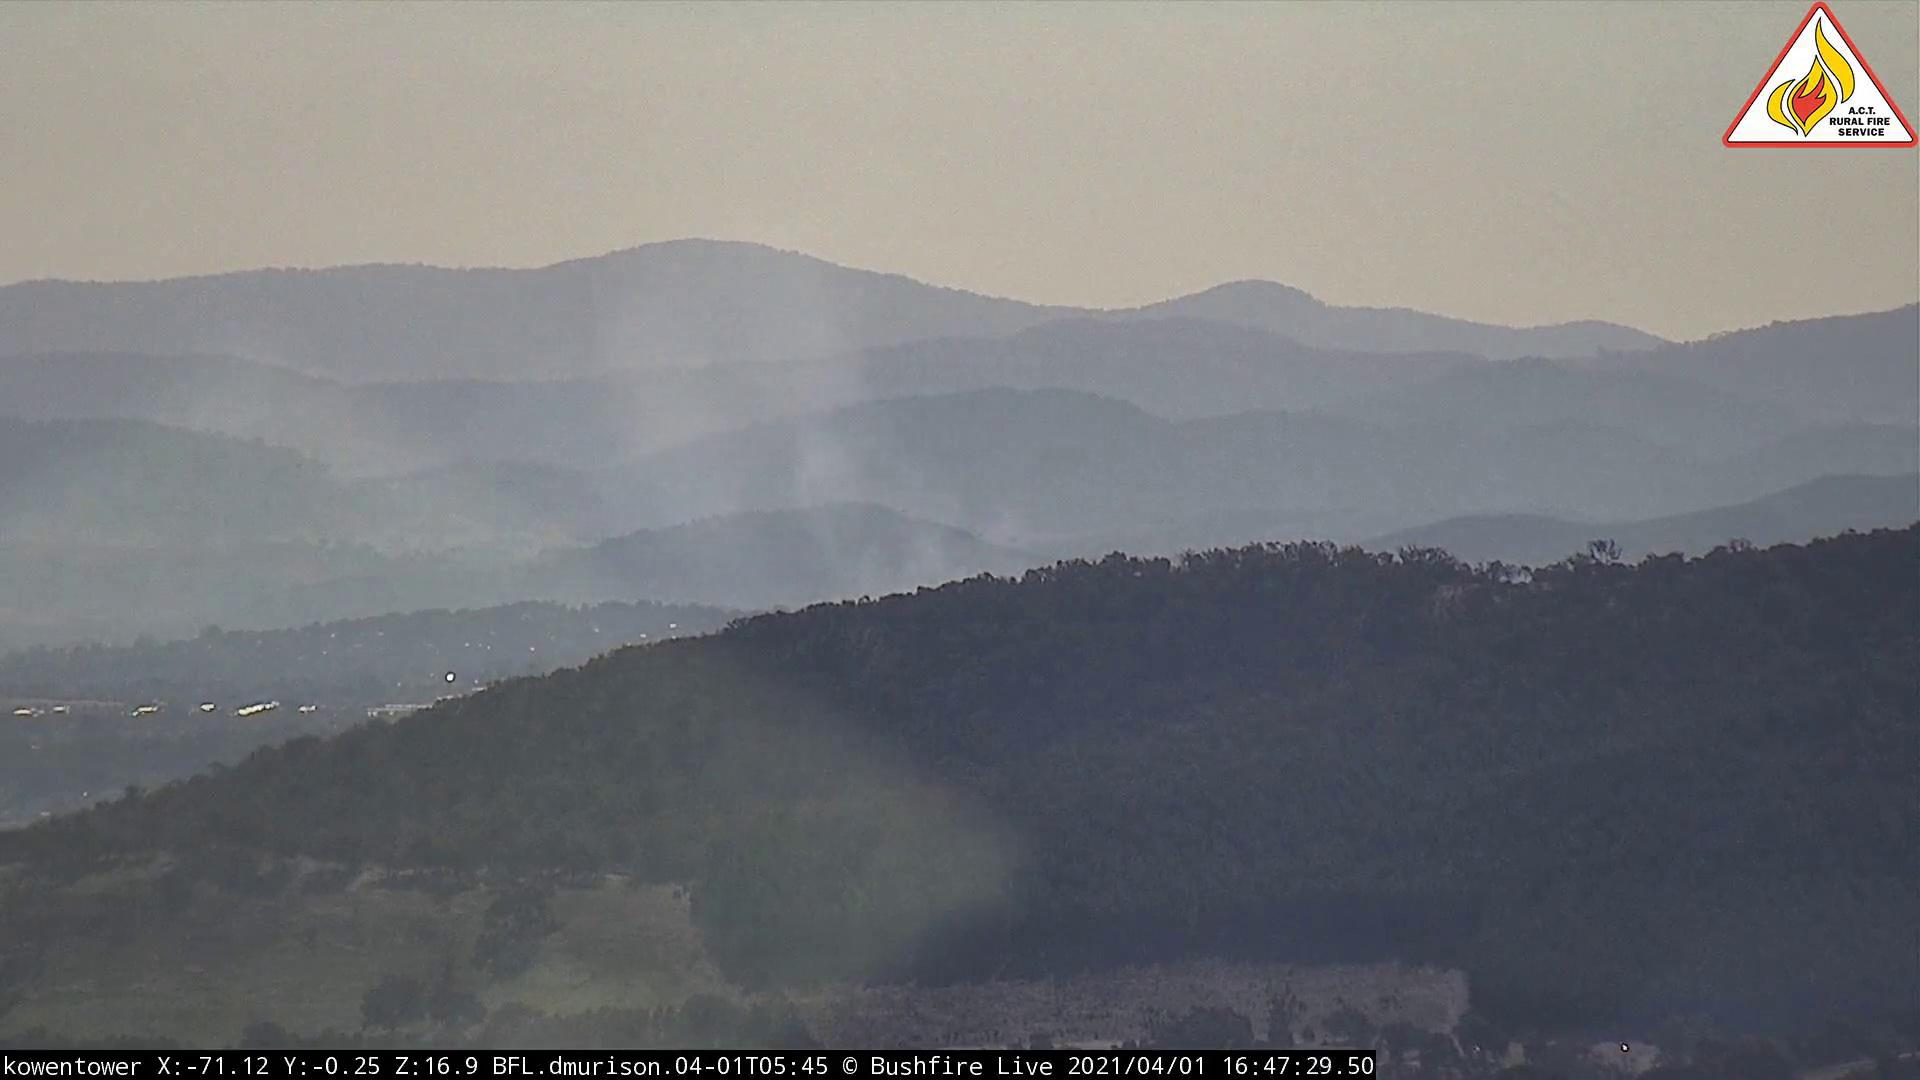Smoke: (608, 208, 1085, 597)
